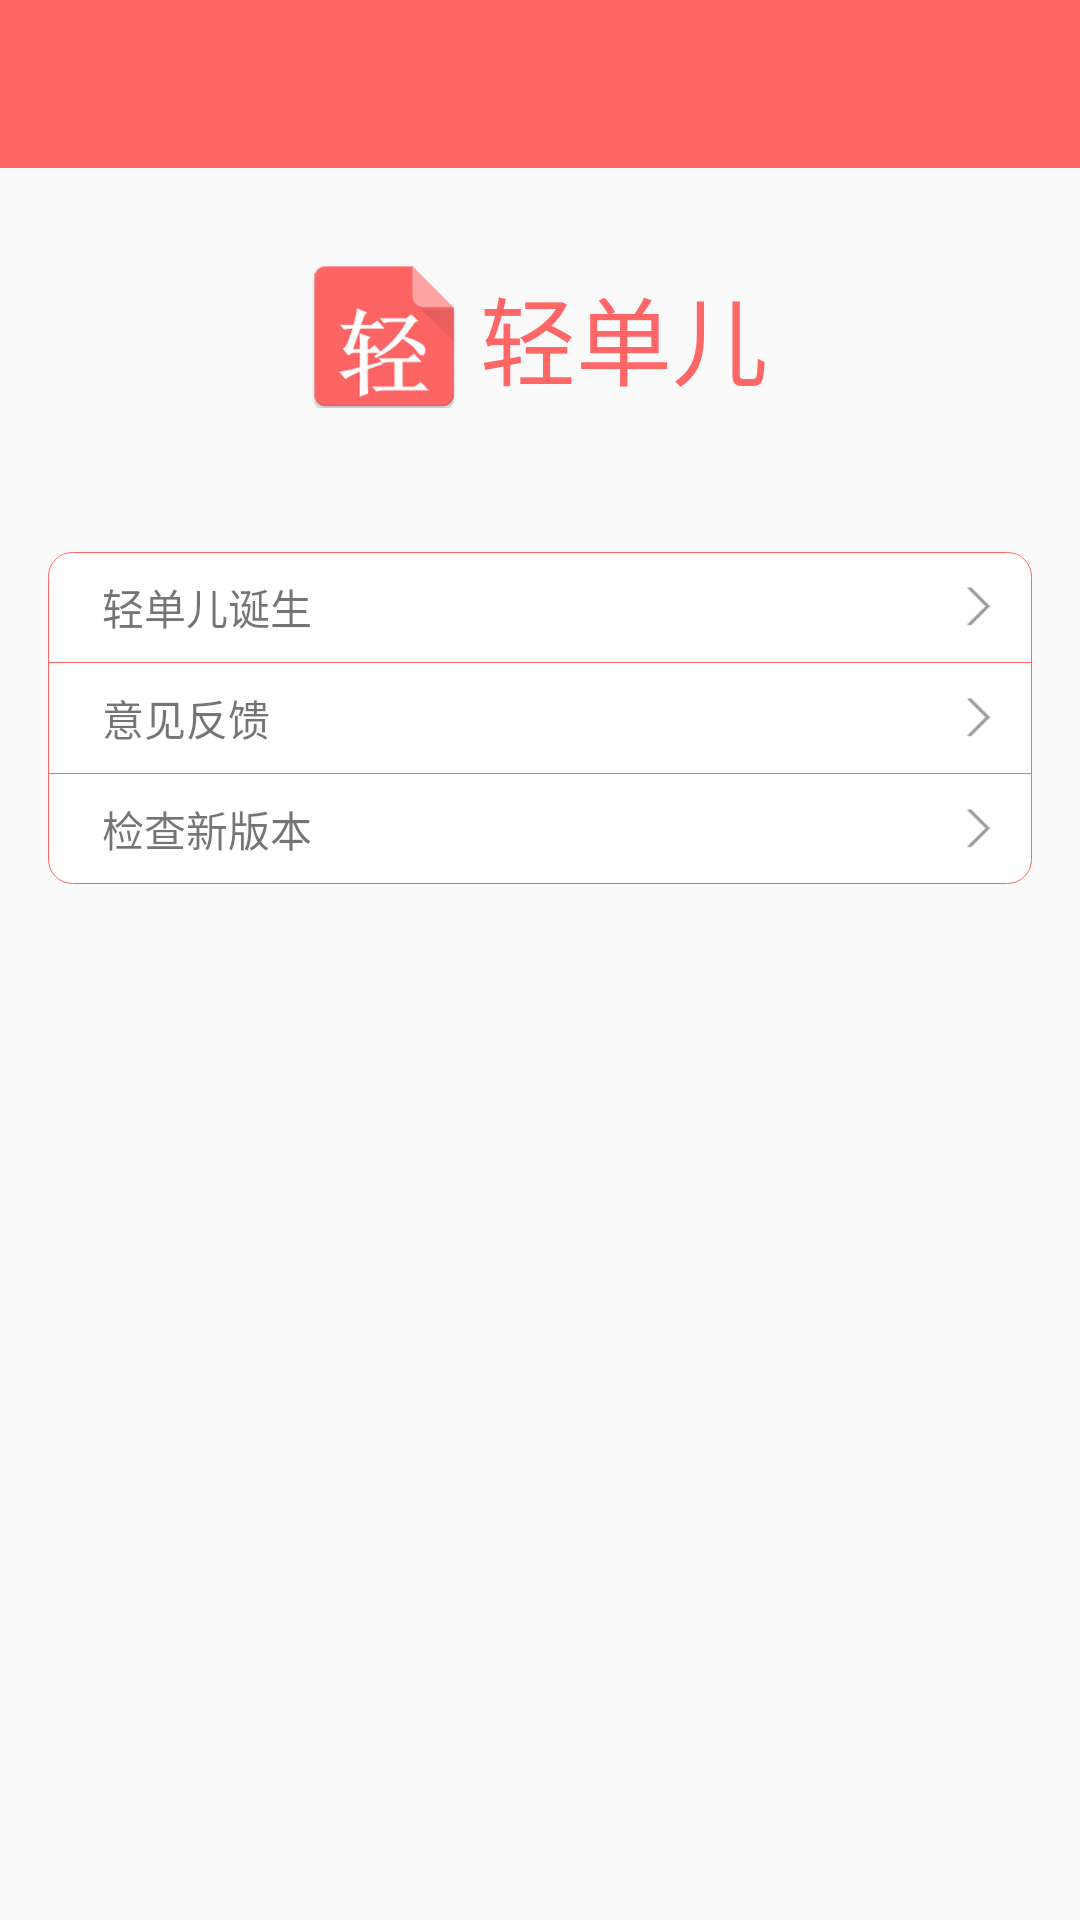

Locate icon controls on the screen. Image size 1080px×1920px, boxes as (x1, y1, x2, y2).
right arrow: (967, 587, 990, 625), (967, 698, 990, 736), (967, 809, 990, 847)
